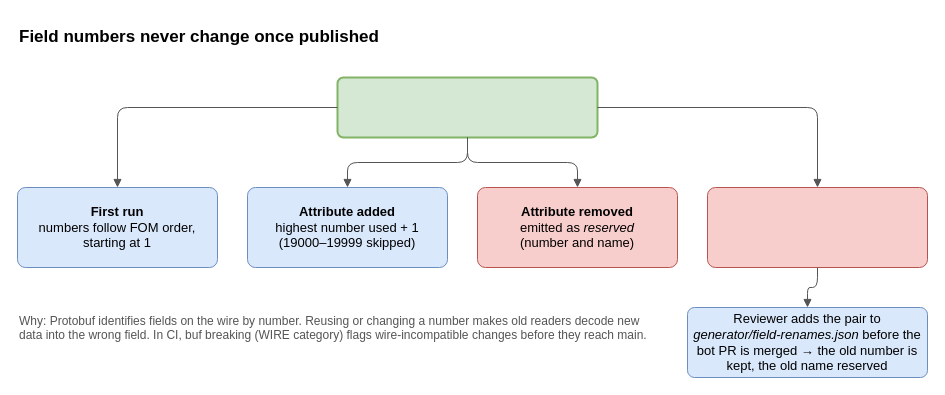
Image size: 945x395. Some labels were removed from this diagram. Each missing label, with the centre of its shape:
Attribute renamed looks like remove + add: new number, flagged for review: the point at 817,227
field-ids.lock.json written by the generator, committed with every regeneration: the point at 467,107
